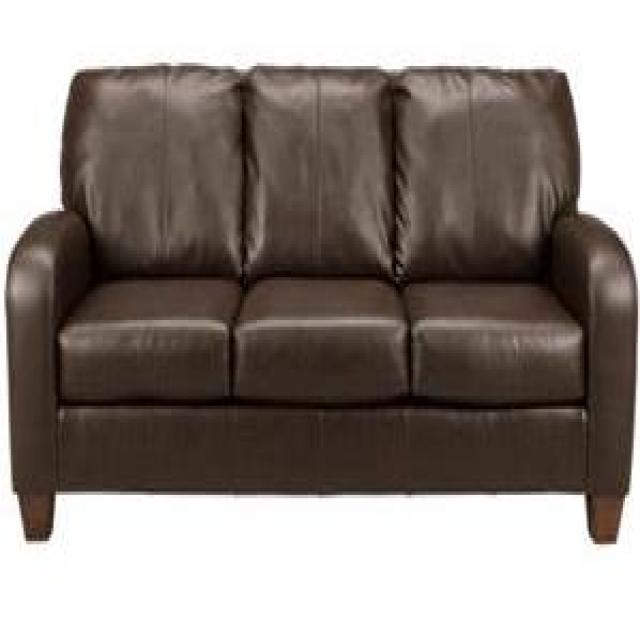sofa: (4, 60, 635, 550)
